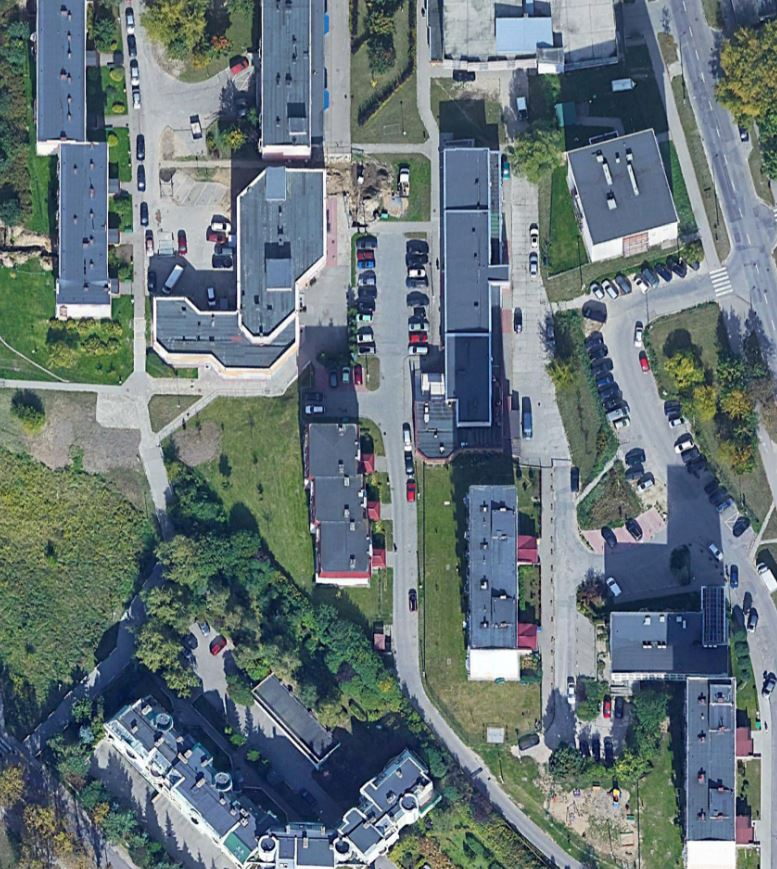block of flats: (101, 684, 442, 869), (21, 1, 124, 330), (415, 143, 510, 444), (653, 656, 766, 869), (555, 119, 686, 270), (293, 411, 398, 598), (457, 476, 539, 688), (600, 598, 748, 694), (246, 1, 325, 165)
shopping_center: (145, 156, 350, 387)
